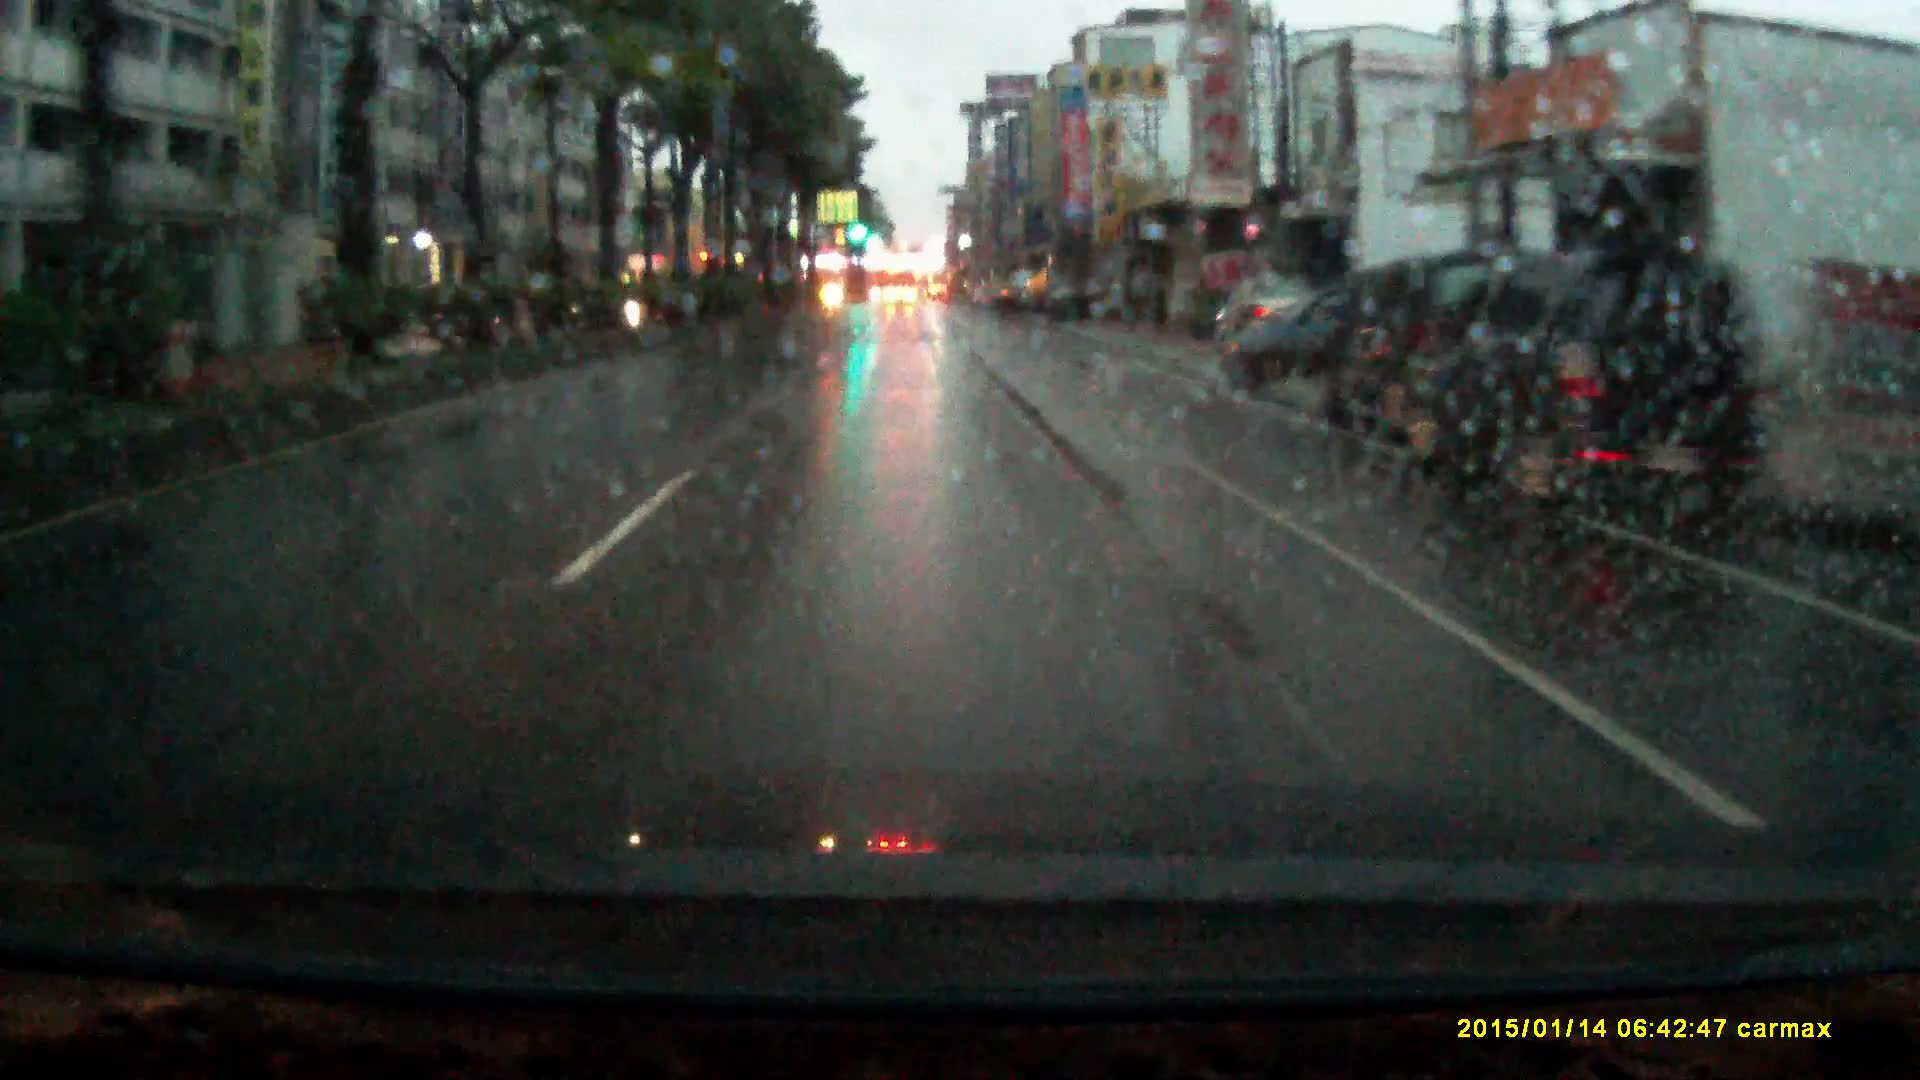vehicle: (1389, 251, 1764, 510), (1304, 255, 1552, 451), (1215, 289, 1362, 396), (1215, 274, 1324, 343), (982, 276, 1029, 313), (886, 284, 918, 309)
